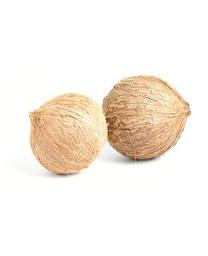coconut: (101, 74, 191, 161), (30, 92, 108, 176)
